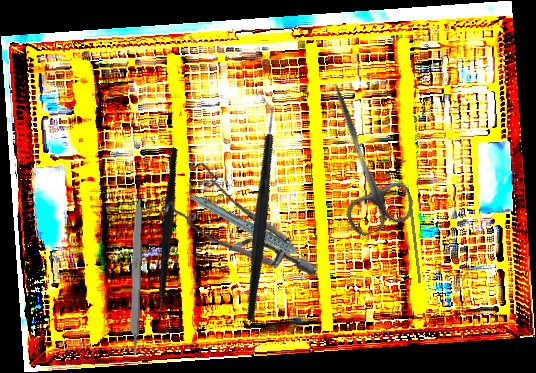Chopper: (170, 95, 345, 323), (101, 146, 240, 328)
Handpiece: (188, 171, 315, 291)
Iris Scissors: (301, 73, 419, 240)
Pusher: (405, 176, 422, 283)
Scalpel Handle: (127, 193, 144, 358)
Speculum: (158, 153, 326, 278)
